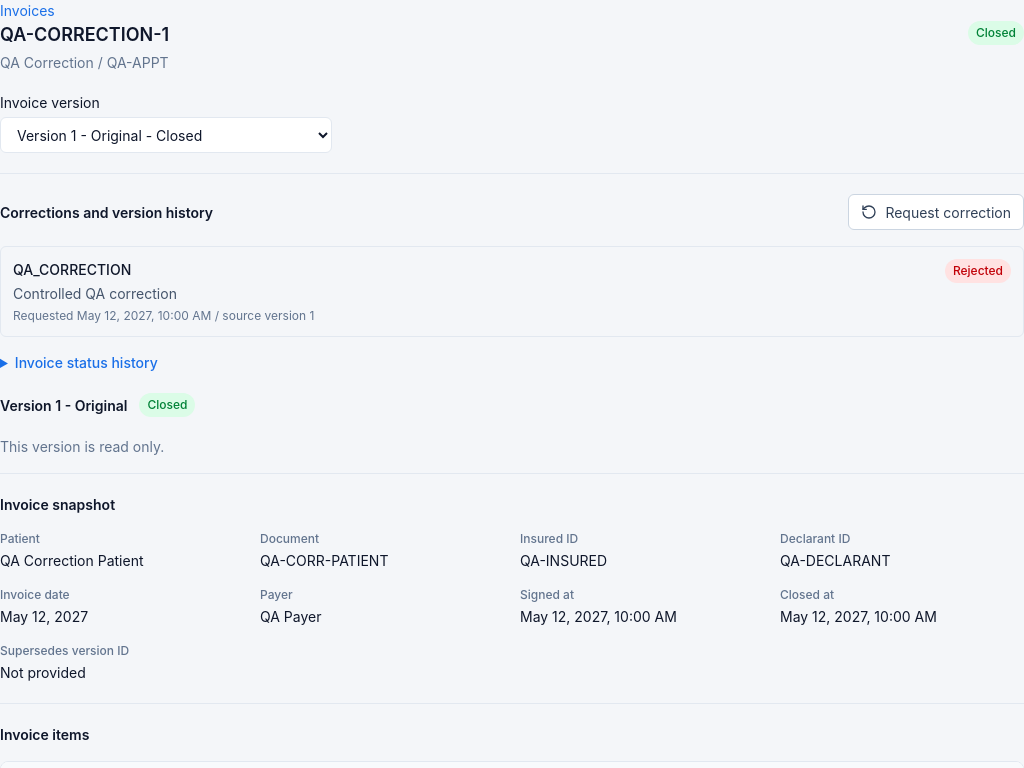
Scenario: F07 correction workflow UI › submits a correction request through the accessible form
The width and height of the screenshot is (1024, 768).
Click the button "Request correction". click: [936, 212]
box: [848,194,1023,230]
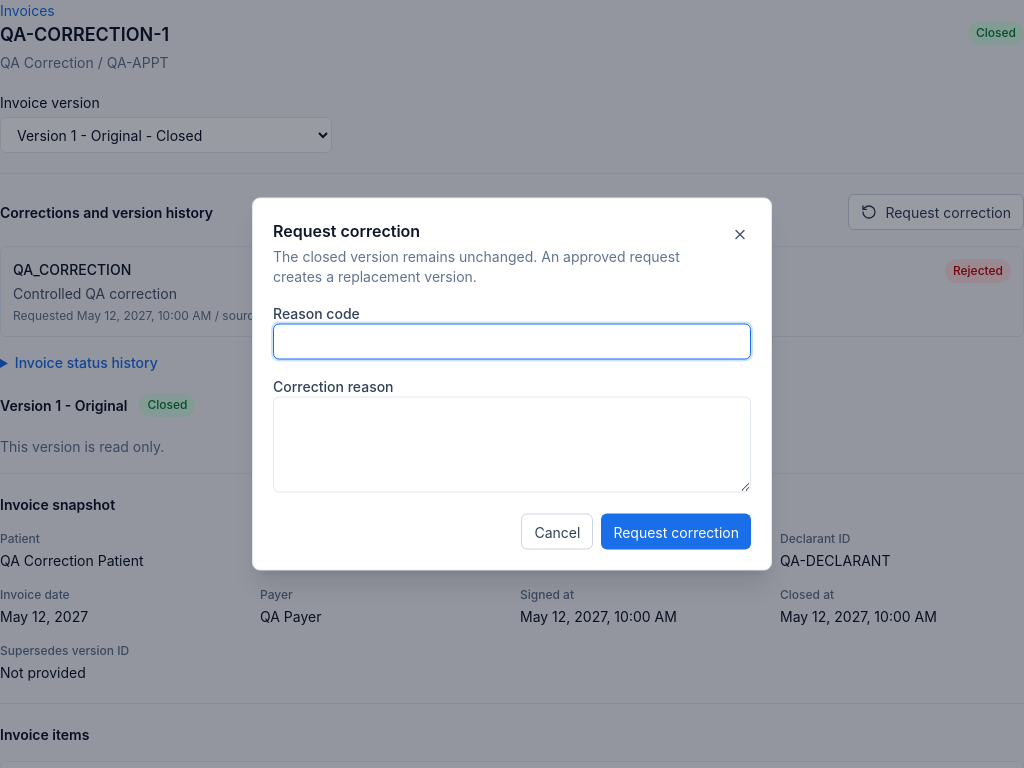
Type "DATA_FIX" into the field labelled "Reason code". click: [512, 342]
box: [273,324,751,360]
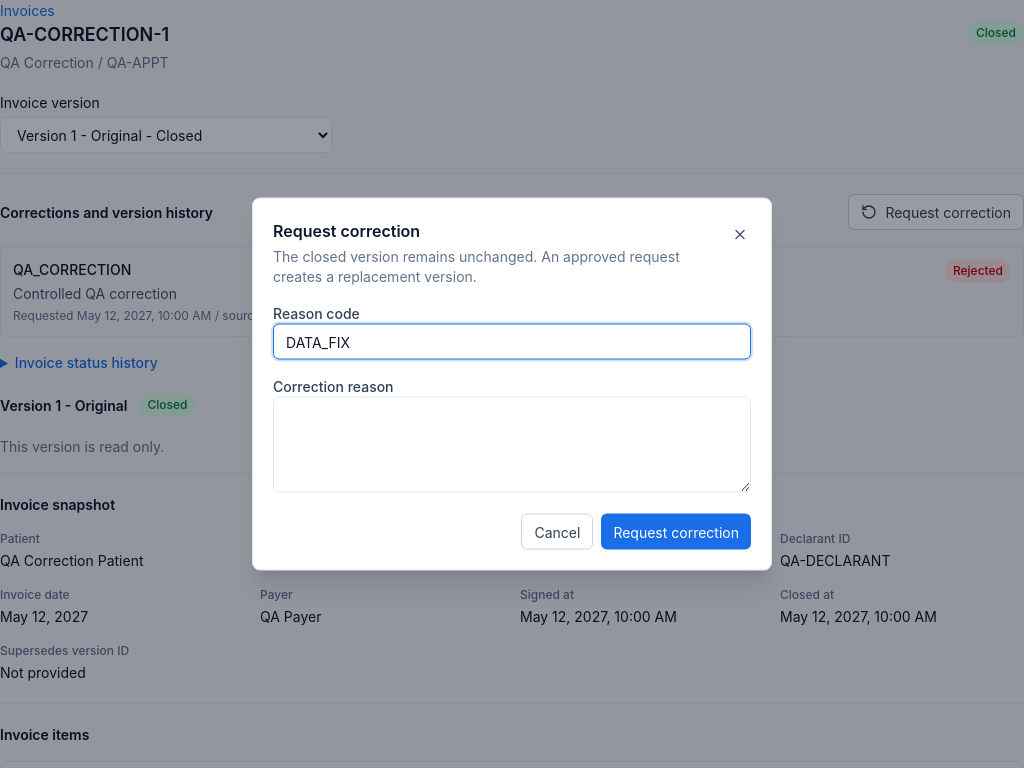
Type "Correct the QA snapshot" into the text box labelled "Correction reason". click: [512, 444]
box: [273,396,751,492]
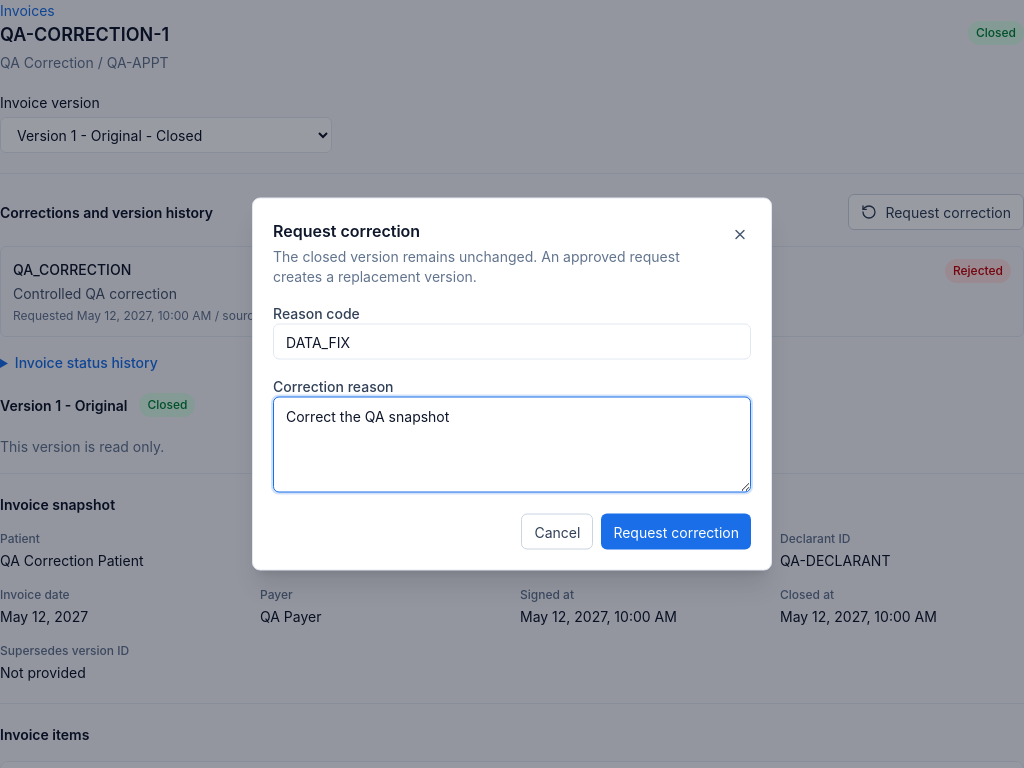
Click the button "Request correction". click: [676, 532]
box: [601,514,751,550]
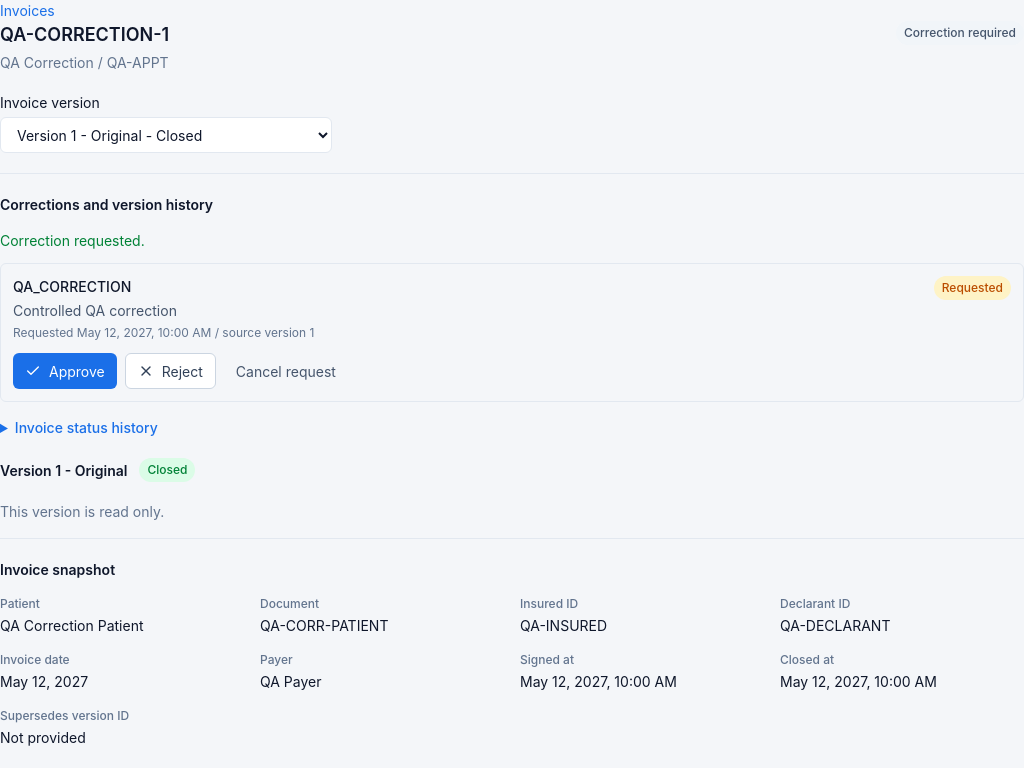
expect the text "Correction requested." is shown: met, box [0,232,145,249]
